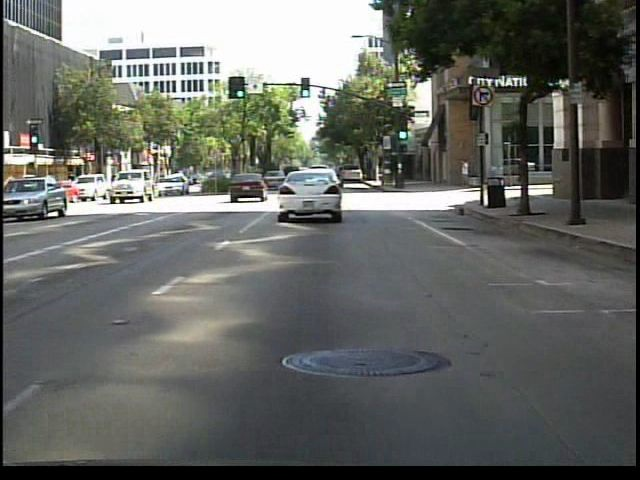person: (455, 155, 472, 194)
